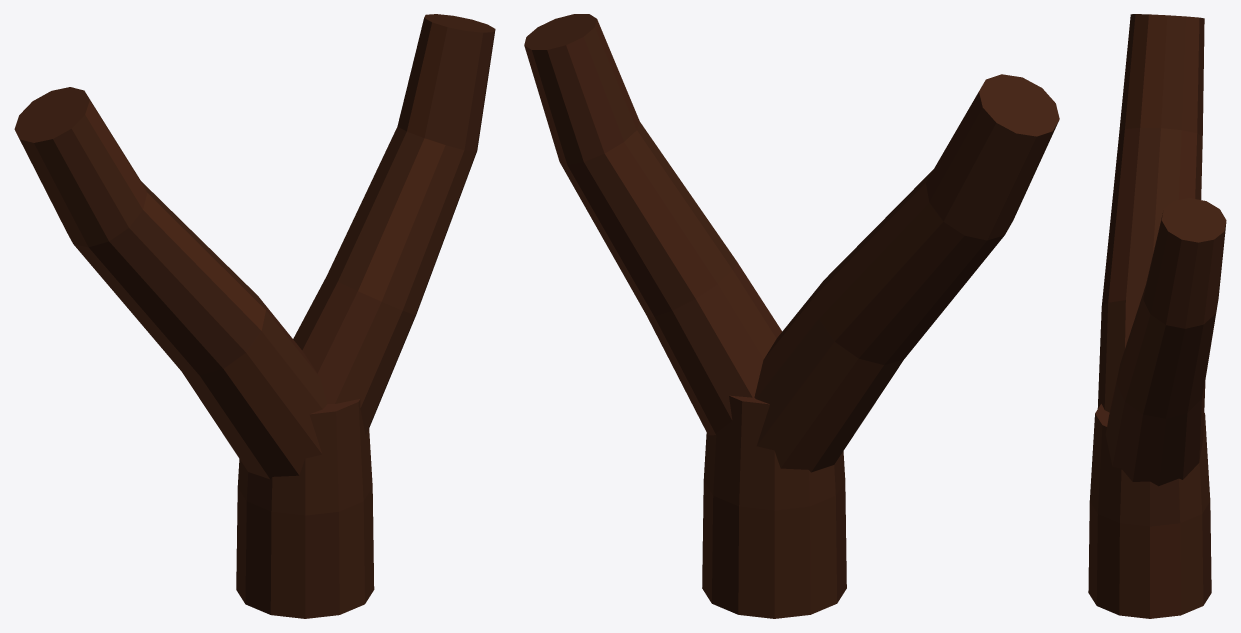
The model's file is N06_Branch_Fork.fbx.
The picture shows the model from 3 angles, left to right: view 1: azimuth 30°, elevation 25°; view 2: azimuth 150°, elevation 25°; view 3: azimuth 270°, elevation 25°; orthographic projection. The views are drawn at different scales.
Parts seen in each view (by area): view 1: N06_Branch_Fork; view 2: N06_Branch_Fork; view 3: N06_Branch_Fork.
Boxes of the visible parts, x1=… form: N06_Branch_Fork: x1=14, y1=14, x2=495, y2=618; N06_Branch_Fork: x1=524, y1=14, x2=1059, y2=618; N06_Branch_Fork: x1=1088, y1=14, x2=1226, y2=618.
Size of the model in its own units: 1.14 by 1.22 by 0.3137.
1 material, 1 textured.
